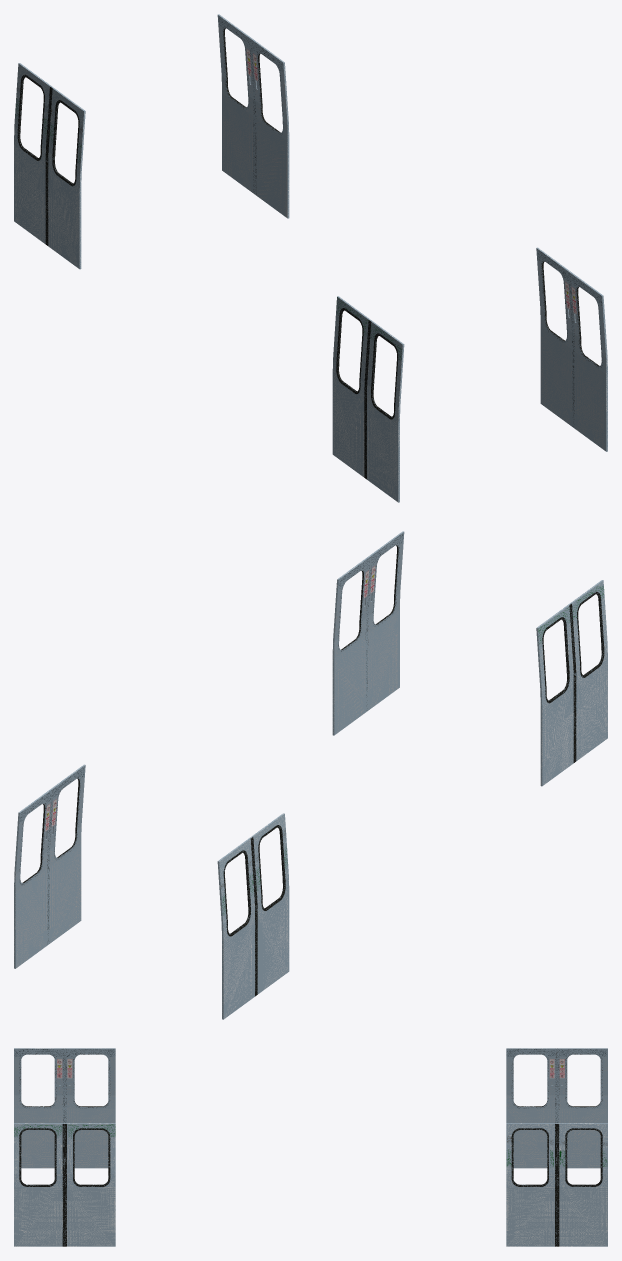
File: door.obj
3 views of the same model, one above another, from view 1: azimuth 30°, elevation 25°; view 2: azimuth 150°, elevation 25°; view 3: azimuth 270°, elevation 25° (orthographic). The views are drawn at different scales.
Visible parts, largest first — view 1: Mesh7 Group7 lh1 Model, Mesh8 Group8 lh1 Model, Mesh6 Group6 rh1 Model, Mesh5 Group5 rh1 Model, Mesh3 Group3 lq1 Model, Mesh4 Group4 lq1 Model, Mesh2 Group2 rq1 Model, Mesh1 Group1 rq1 Model; view 2: Mesh4 Group4 lq1 Model, Mesh3 Group3 lq1 Model, Mesh1 Group1 rq1 Model, Mesh2 Group2 rq1 Model, Mesh8 Group8 lh1 Model, Mesh7 Group7 lh1 Model, Mesh5 Group5 rh1 Model, Mesh6 Group6 rh1 Model; view 3: Mesh2 Group2 rq1 Model, Mesh5 Group5 rh1 Model, Mesh1 Group1 rq1 Model, Mesh6 Group6 rh1 Model, Mesh3 Group3 lq1 Model, Mesh8 Group8 lh1 Model, Mesh4 Group4 lq1 Model, Mesh7 Group7 lh1 Model.
Boxes of the visible parts, x1,y1,x2,y2 form: Mesh7 Group7 lh1 Model: [365, 320, 404, 502]; Mesh8 Group8 lh1 Model: [47, 87, 85, 269]; Mesh6 Group6 rh1 Model: [569, 271, 607, 451]; Mesh5 Group5 rh1 Model: [250, 38, 289, 218]; Mesh3 Group3 lq1 Model: [332, 296, 370, 478]; Mesh4 Group4 lq1 Model: [14, 63, 52, 244]; Mesh2 Group2 rq1 Model: [536, 247, 573, 427]; Mesh1 Group1 rq1 Model: [217, 14, 254, 194]; Mesh4 Group4 lq1 Model: [217, 837, 256, 1019]; Mesh3 Group3 lq1 Model: [536, 604, 574, 786]; Mesh1 Group1 rq1 Model: [14, 788, 52, 968]; Mesh2 Group2 rq1 Model: [332, 555, 371, 735]; Mesh8 Group8 lh1 Model: [251, 813, 289, 995]; Mesh7 Group7 lh1 Model: [569, 580, 607, 761]; Mesh5 Group5 rh1 Model: [48, 764, 85, 944]; Mesh6 Group6 rh1 Model: [367, 531, 404, 711]; Mesh2 Group2 rq1 Model: [64, 1123, 115, 1246]; Mesh5 Group5 rh1 Model: [506, 1123, 557, 1246]; Mesh1 Group1 rq1 Model: [557, 1123, 607, 1246]; Mesh6 Group6 rh1 Model: [14, 1123, 64, 1246]; Mesh3 Group3 lq1 Model: [64, 1048, 115, 1168]; Mesh8 Group8 lh1 Model: [506, 1048, 557, 1168]; Mesh4 Group4 lq1 Model: [557, 1048, 607, 1168]; Mesh7 Group7 lh1 Model: [14, 1048, 64, 1168].
Size of the model in its own units: 2.76 by 1.98 by 8.77.
Materials: 7 (4 with a texture image).
